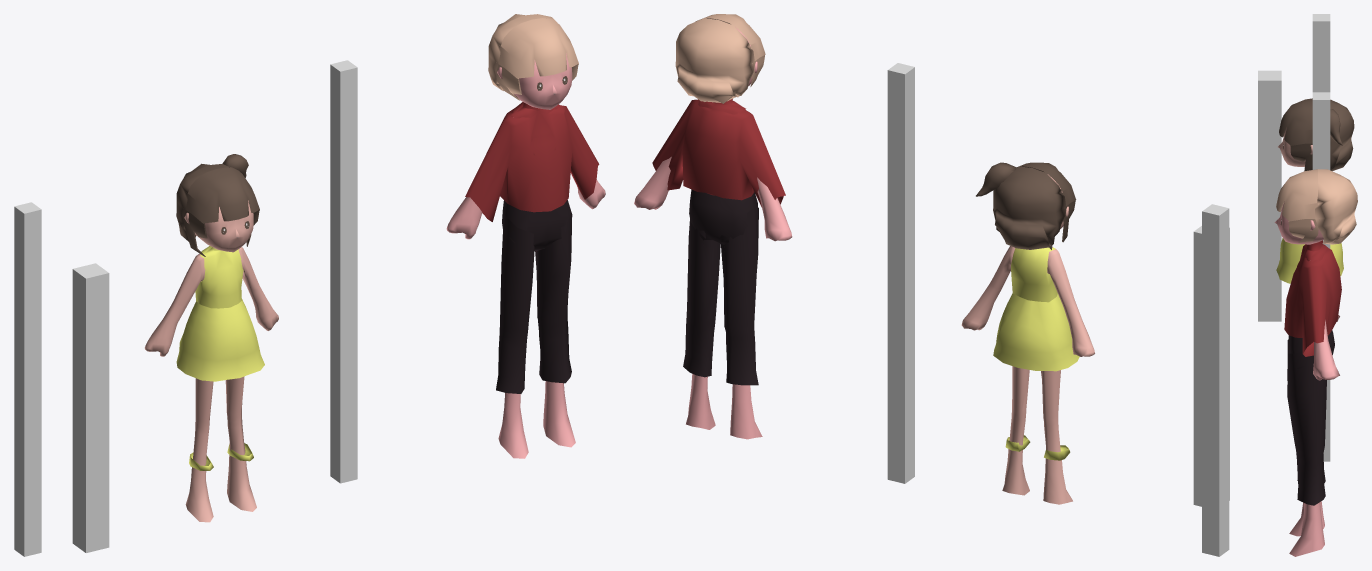
The model's file is man01.fbx.
3 renders of one model, left to right at view 1: azimuth 30°, elevation 25°; view 2: azimuth 150°, elevation 25°; view 3: azimuth 270°, elevation 25°, orthographic. The views are drawn at different scales.
Visible parts, largest first — view 1: Cube.001, asi.002, 120guide, Cube, karada.005, karada.002, asi, kami_mae.001, kami_mae, ude, asi.001, karada.001 (+5 smaller); view 2: asi.002, Cube.001, Cube, karada.005, kami_usiro.001, karada.002, kami_usiro, asi, ude, 120guide, asi.001, ude.001 (+3 smaller); view 3: 120guide, asi.002, karada.005, kami_usiro.001, kami_mae.001, Cube.001, kami_mae, Cube, asi.001, kami_usiro, karada.002, ude.001 (+4 smaller).
Boxes of the visible parts, bbox=[...] form: Cube.001: bbox=[330, 60, 357, 483]; asi.002: bbox=[496, 200, 572, 393]; 120guide: bbox=[72, 263, 109, 552]; Cube: bbox=[14, 202, 41, 556]; karada.005: bbox=[465, 102, 599, 221]; karada.002: bbox=[176, 299, 264, 381]; asi: bbox=[185, 376, 256, 522]; kami_mae.001: bbox=[496, 18, 578, 100]; kami_mae: bbox=[183, 167, 259, 256]; ude: bbox=[144, 247, 278, 356]; asi.001: bbox=[498, 381, 575, 458]; karada.001: bbox=[195, 246, 243, 308]; asi.002: bbox=[683, 189, 758, 385]; Cube.001: bbox=[887, 63, 914, 483]; Cube: bbox=[1202, 204, 1229, 556]; karada.005: bbox=[652, 99, 785, 207]; kami_usiro.001: bbox=[675, 18, 754, 103]; karada.002: bbox=[993, 293, 1079, 371]; kami_usiro: bbox=[993, 166, 1066, 249]; asi: bbox=[1002, 366, 1072, 504]; ude: bbox=[961, 246, 1094, 356]; 120guide: bbox=[1193, 226, 1229, 506]; asi.001: bbox=[686, 374, 762, 439]; ude.001: bbox=[634, 156, 792, 241]; 120guide: bbox=[1258, 70, 1281, 321]; asi.002: bbox=[1287, 330, 1334, 505]; karada.005: bbox=[1284, 240, 1341, 356]; kami_usiro.001: bbox=[1315, 169, 1357, 244]; kami_mae.001: bbox=[1276, 169, 1319, 242]; Cube.001: bbox=[1312, 92, 1330, 461]; kami_mae: bbox=[1279, 98, 1312, 170]; Cube: bbox=[1312, 14, 1330, 92]; asi.001: bbox=[1289, 501, 1324, 556]; kami_usiro: bbox=[1330, 99, 1354, 171]; karada.002: bbox=[1276, 238, 1343, 283]; ude.001: bbox=[1313, 315, 1339, 380].
Size of the model in its own units: 269 by 184 by 45.07.
